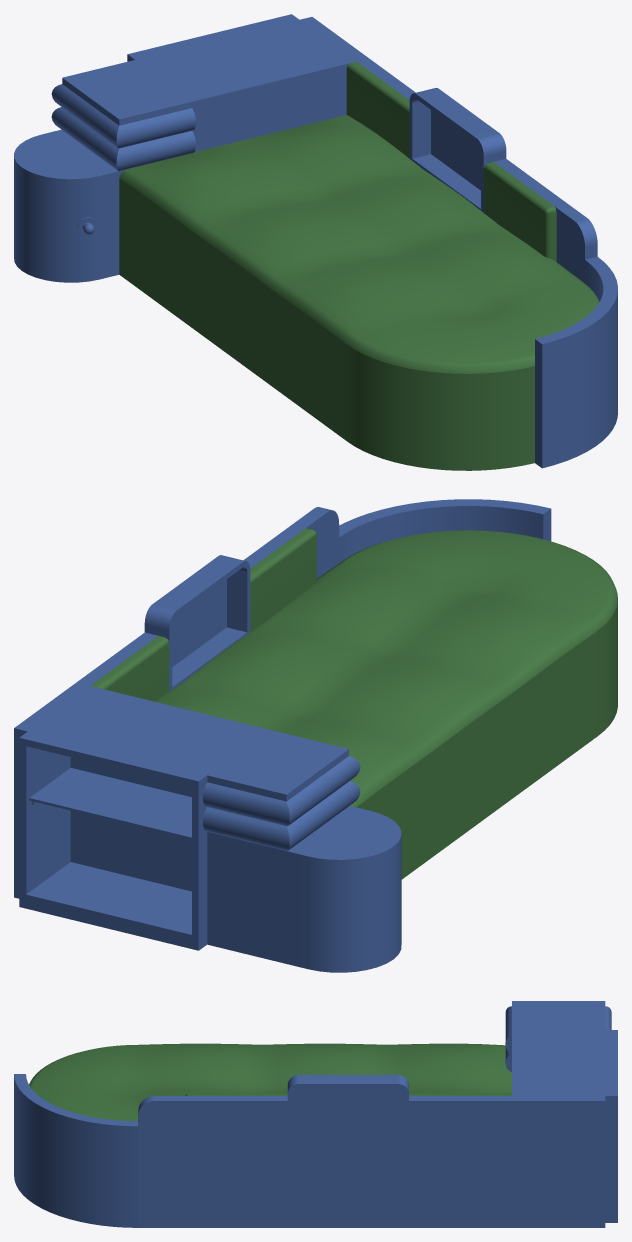
Rendered from SM_Bed_02.fbx.
The picture shows the model from 3 angles, top to bottom: view 1: azimuth 30°, elevation 25°; view 2: azimuth 150°, elevation 25°; view 3: azimuth 270°, elevation 25°; orthographic projection. The views are drawn at different scales.
Parts seen in each view (by area): view 1: SM_Bed_02; view 2: SM_Bed_02; view 3: SM_Bed_02.
Boxes of the visible parts, x1,y1,x2,y2 form: SM_Bed_02: [14, 14, 617, 470]; SM_Bed_02: [14, 499, 617, 972]; SM_Bed_02: [14, 1001, 617, 1227].
Bounding box in the file's own units: 202 × 106 × 404.
